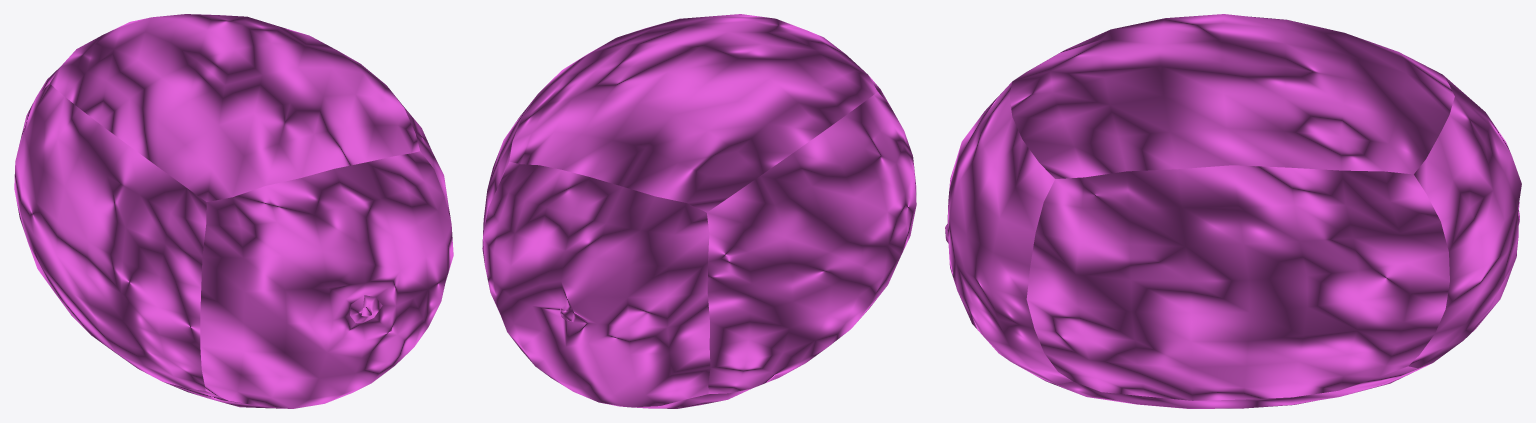
File: fruit_watermelon_1_f.glb
3 views of the same model, side by side, from view 1: azimuth 30°, elevation 25°; view 2: azimuth 150°, elevation 25°; view 3: azimuth 270°, elevation 25° (orthographic). The views are drawn at different scales.
Bounding box in the file's own units: 0.176 × 0.1603 × 0.2388.
